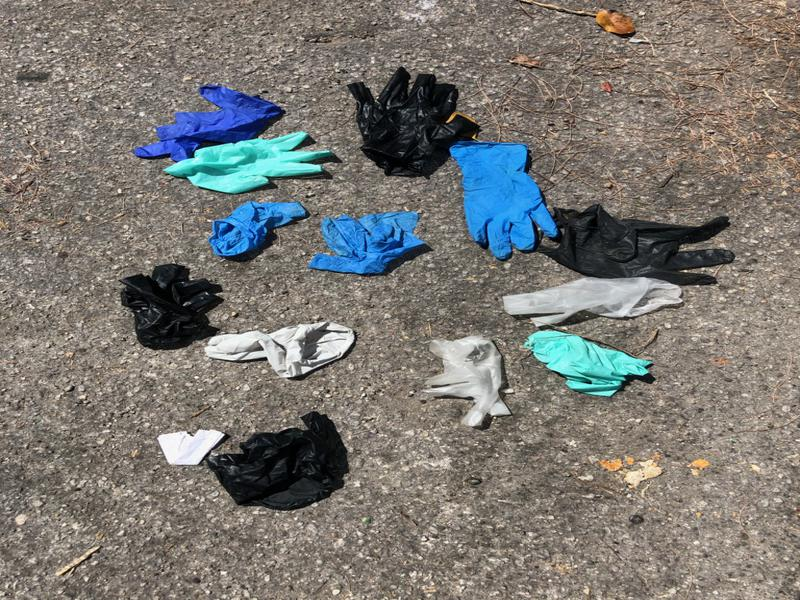gloves: (536, 202, 739, 286), (346, 62, 485, 179), (202, 409, 355, 513), (130, 76, 287, 162), (448, 137, 560, 256), (165, 129, 337, 194), (112, 262, 227, 352), (417, 333, 516, 436), (501, 275, 689, 328), (307, 204, 437, 279), (521, 329, 654, 400), (206, 320, 360, 381), (206, 194, 308, 261)
